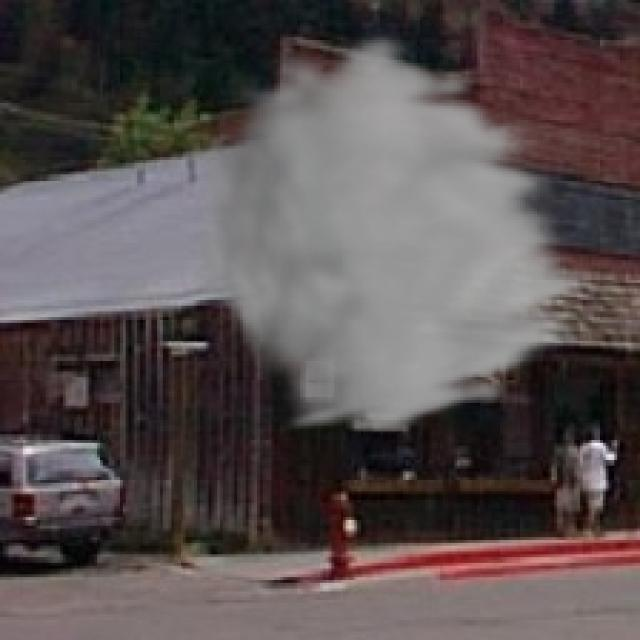smoke: (186, 29, 608, 437)
